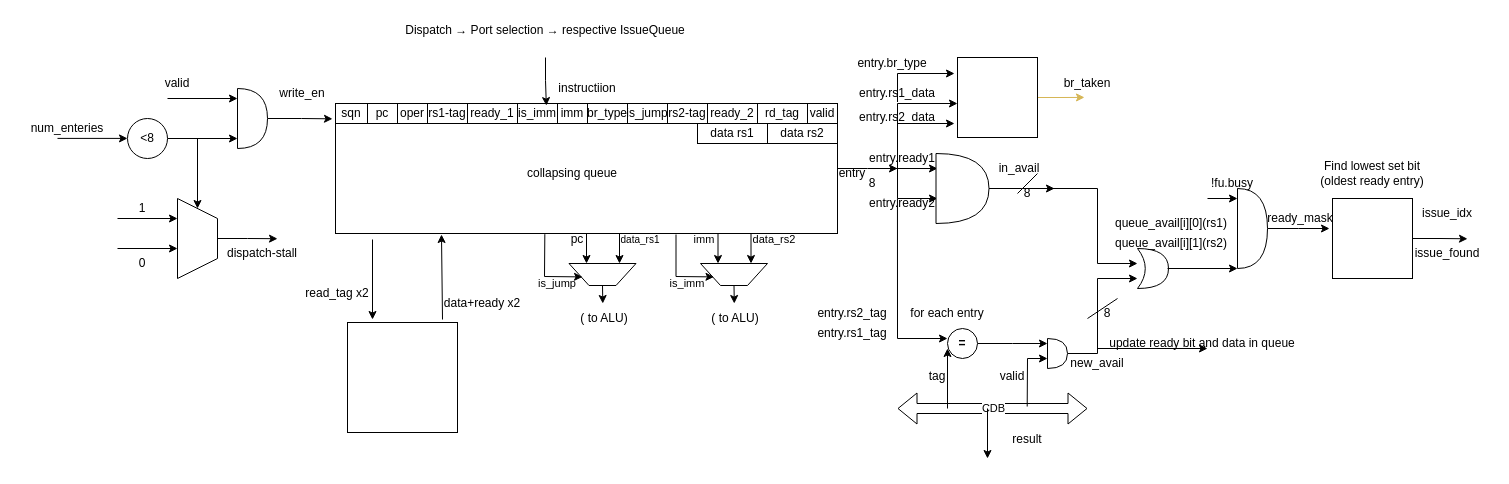
Image size: 1509x484. Some labels were removed from this diagram. Each missing label, with the box of its shape:
Comparator: (956, 56, 1038, 138)
Priority Encoder: (1332, 198, 1412, 278)
REGFILE: (346, 322, 458, 432)
